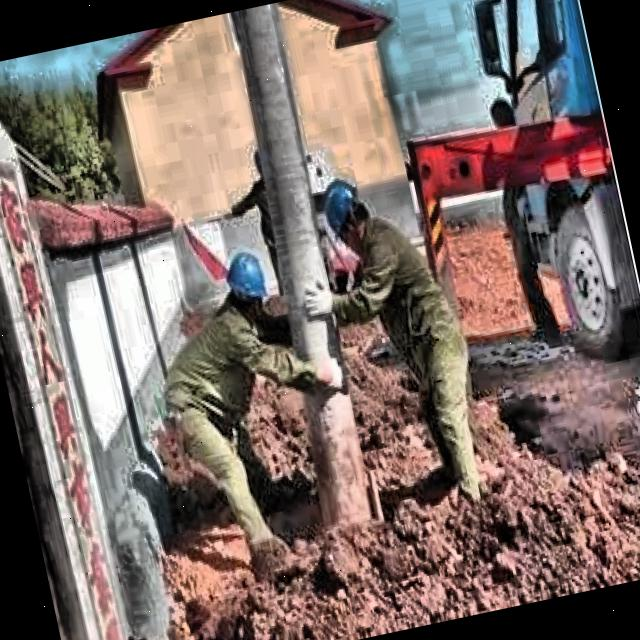helmet: (316, 168, 379, 262), (218, 245, 278, 325)
